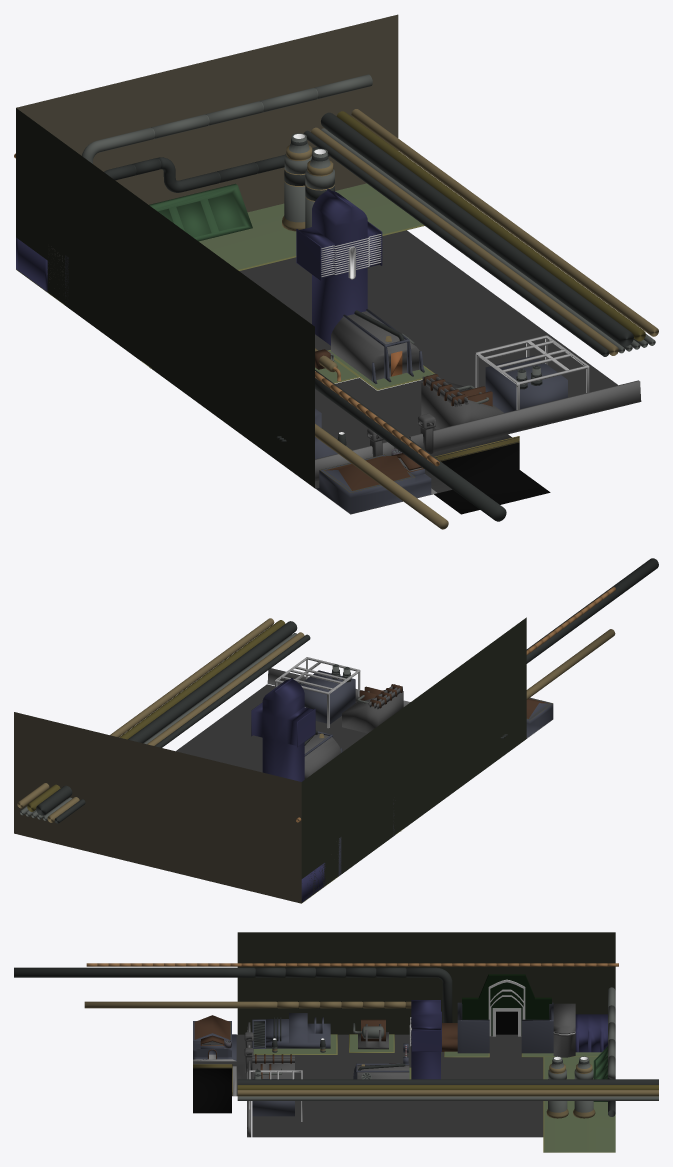
The model's file is Cena2_Remake_Corrido_12.fbx.
The picture shows the model from 3 angles, top to bottom: view 1: azimuth 30°, elevation 25°; view 2: azimuth 150°, elevation 25°; view 3: azimuth 270°, elevation 25°; orthographic projection. The views are drawn at different scales.
Parts seen in each view (by area): view 1: Plane, Plane.001, Plane.002, Cube.029, Cylinder.017, Cube.001, Cube.033, Cube, Cube.006, Cylinder.019, Cylinder.021, Cube.036 (+17 smaller); view 2: Plane.001, Plane, Cube.029, Plane.002, Cylinder.017, Cylinder.019, Cube.023, Cylinder.018, Cylinder.023, Cube.022, Cylinder.014, Cylinder.015 (+7 smaller); view 3: Plane, Plane.002, Cylinder.023, Cube.038, Cube.033, Cylinder.019, Cylinder.024, Cube, Cylinder.017, Cube.021, Cube.029, Cylinder.025 (+17 smaller).
Boxes of the visible parts, bbox=[...] form: Plane: bbox=[16, 108, 314, 488]; Plane.001: bbox=[16, 14, 398, 212]; Plane.002: bbox=[239, 230, 617, 450]; Cube.029: bbox=[296, 189, 382, 345]; Cylinder.017: bbox=[321, 112, 633, 346]; Cube.001: bbox=[315, 380, 641, 481]; Cube.033: bbox=[199, 183, 424, 270]; Cube: bbox=[315, 434, 550, 514]; Cube.006: bbox=[316, 453, 436, 514]; Cylinder.019: bbox=[351, 109, 658, 336]; Cylinder.021: bbox=[82, 74, 372, 163]; Cube.036: bbox=[149, 183, 252, 241]; Plane.001: bbox=[14, 712, 301, 903]; Plane: bbox=[301, 617, 526, 897]; Cube.029: bbox=[251, 678, 315, 781]; Plane.002: bbox=[176, 684, 367, 772]; Cylinder.017: bbox=[36, 621, 297, 815]; Cylinder.019: bbox=[17, 618, 274, 808]; Cube.023: bbox=[300, 670, 355, 724]; Cylinder.018: bbox=[27, 620, 285, 811]; Cylinder.023: bbox=[400, 558, 658, 831]; Cube.022: bbox=[342, 686, 403, 733]; Cylinder.014: bbox=[54, 634, 310, 823]; Cylinder.015: bbox=[47, 632, 304, 822]; Plane: bbox=[237, 932, 615, 1034]; Plane.002: bbox=[252, 1034, 543, 1137]; Cylinder.023: bbox=[14, 967, 452, 1022]; Cube.038: bbox=[462, 974, 551, 1036]; Cube.033: bbox=[543, 1057, 615, 1152]; Cylinder.019: bbox=[237, 1090, 658, 1096]; Cylinder.024: bbox=[84, 1001, 411, 1008]; Cube: bbox=[193, 1034, 252, 1113]; Cylinder.017: bbox=[237, 1079, 658, 1084]; Cube.021: bbox=[457, 1002, 553, 1053]; Cube.029: bbox=[411, 1000, 441, 1079]; Cylinder.025: bbox=[86, 963, 618, 966].
Size of the model in its own units: 127642 by 59567 by 291953.
